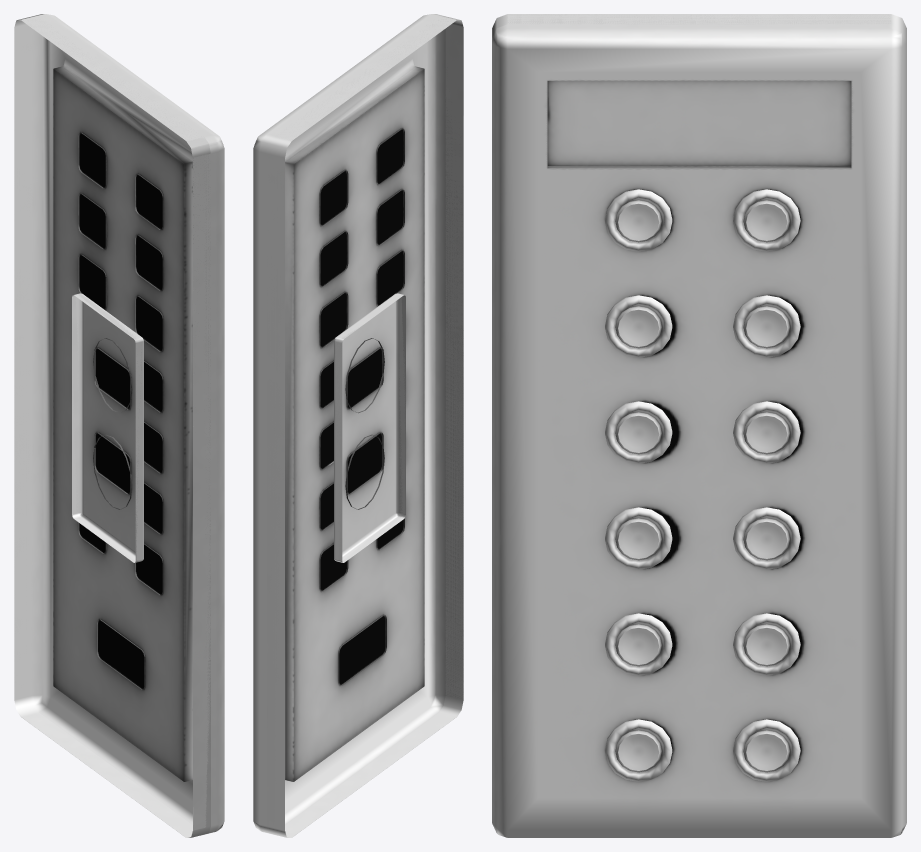
Rendered from Buttons.fbx.
The picture shows the model from 3 angles, left to right: view 1: azimuth 30°, elevation 25°; view 2: azimuth 150°, elevation 25°; view 3: azimuth 270°, elevation 25°; orthographic projection. The views are drawn at different scales.
Parts seen in each view (by area): view 1: Buttons04, Buttons02, Buttons03, Buttons01; view 2: Buttons04, Buttons02, Buttons03, Buttons01; view 3: Buttons02, Buttons04.
Part boxes in pixels (x1,y1,x2,y2): Buttons04: [14, 17, 210, 837]; Buttons02: [14, 14, 224, 837]; Buttons03: [72, 293, 141, 562]; Buttons01: [72, 293, 143, 561]; Buttons04: [267, 15, 463, 837]; Buttons02: [253, 14, 463, 837]; Buttons03: [335, 293, 405, 562]; Buttons01: [334, 293, 405, 561]; Buttons02: [492, 14, 906, 837]; Buttons04: [492, 14, 891, 37].
Size of the model in its own units: 4.29 by 68.68 by 31.91.
